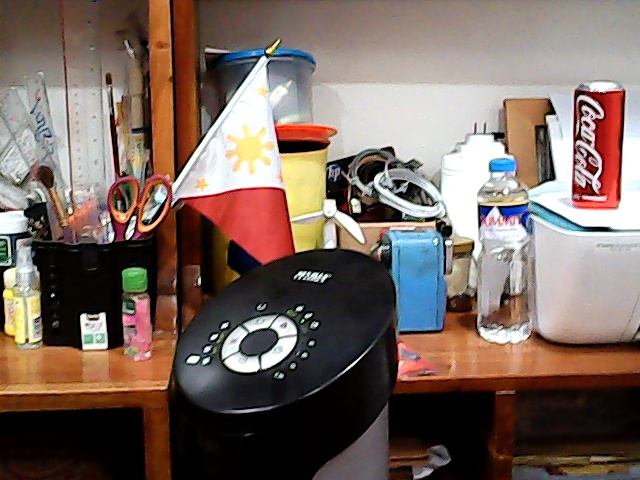Cola: (568, 81, 623, 209)
Summit Water: (476, 153, 537, 342)
